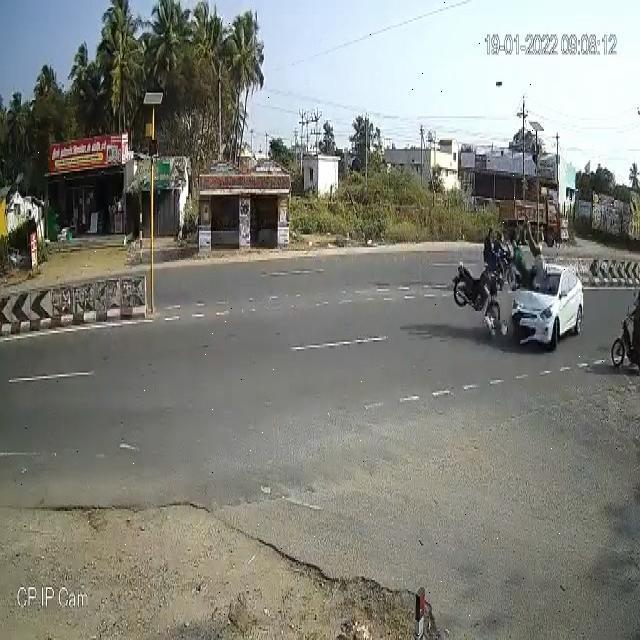accident: (449, 246, 591, 350)
